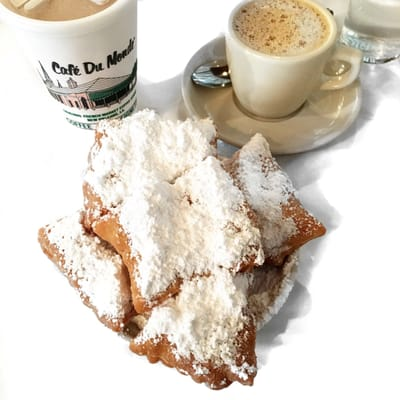pizza: (0, 0, 138, 129), (225, 0, 363, 120), (340, 0, 400, 65)
soup: (72, 109, 314, 384)
